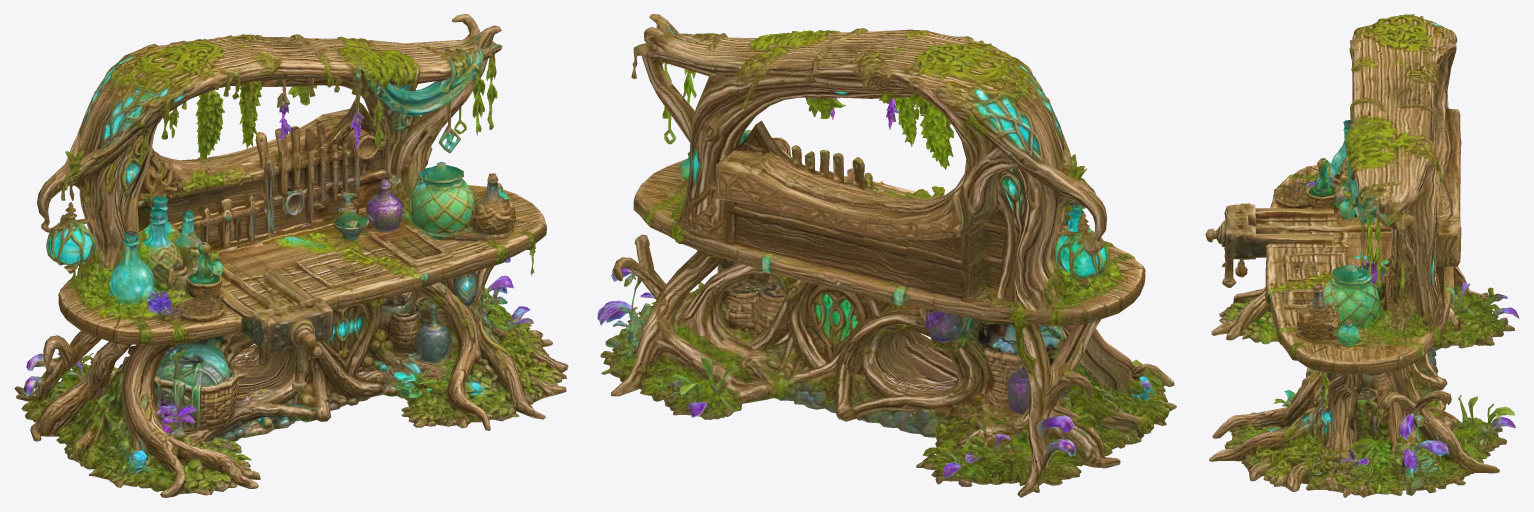
The model's file is outdoor-crafting-station.glb.
3 renders of one model, left to right at view 1: azimuth 30°, elevation 25°; view 2: azimuth 150°, elevation 25°; view 3: azimuth 270°, elevation 25°, orthographic. The views are drawn at different scales.
Size of the model in its own units: 1.89 by 1.31 by 1.16.
1 material, 1 textured.
